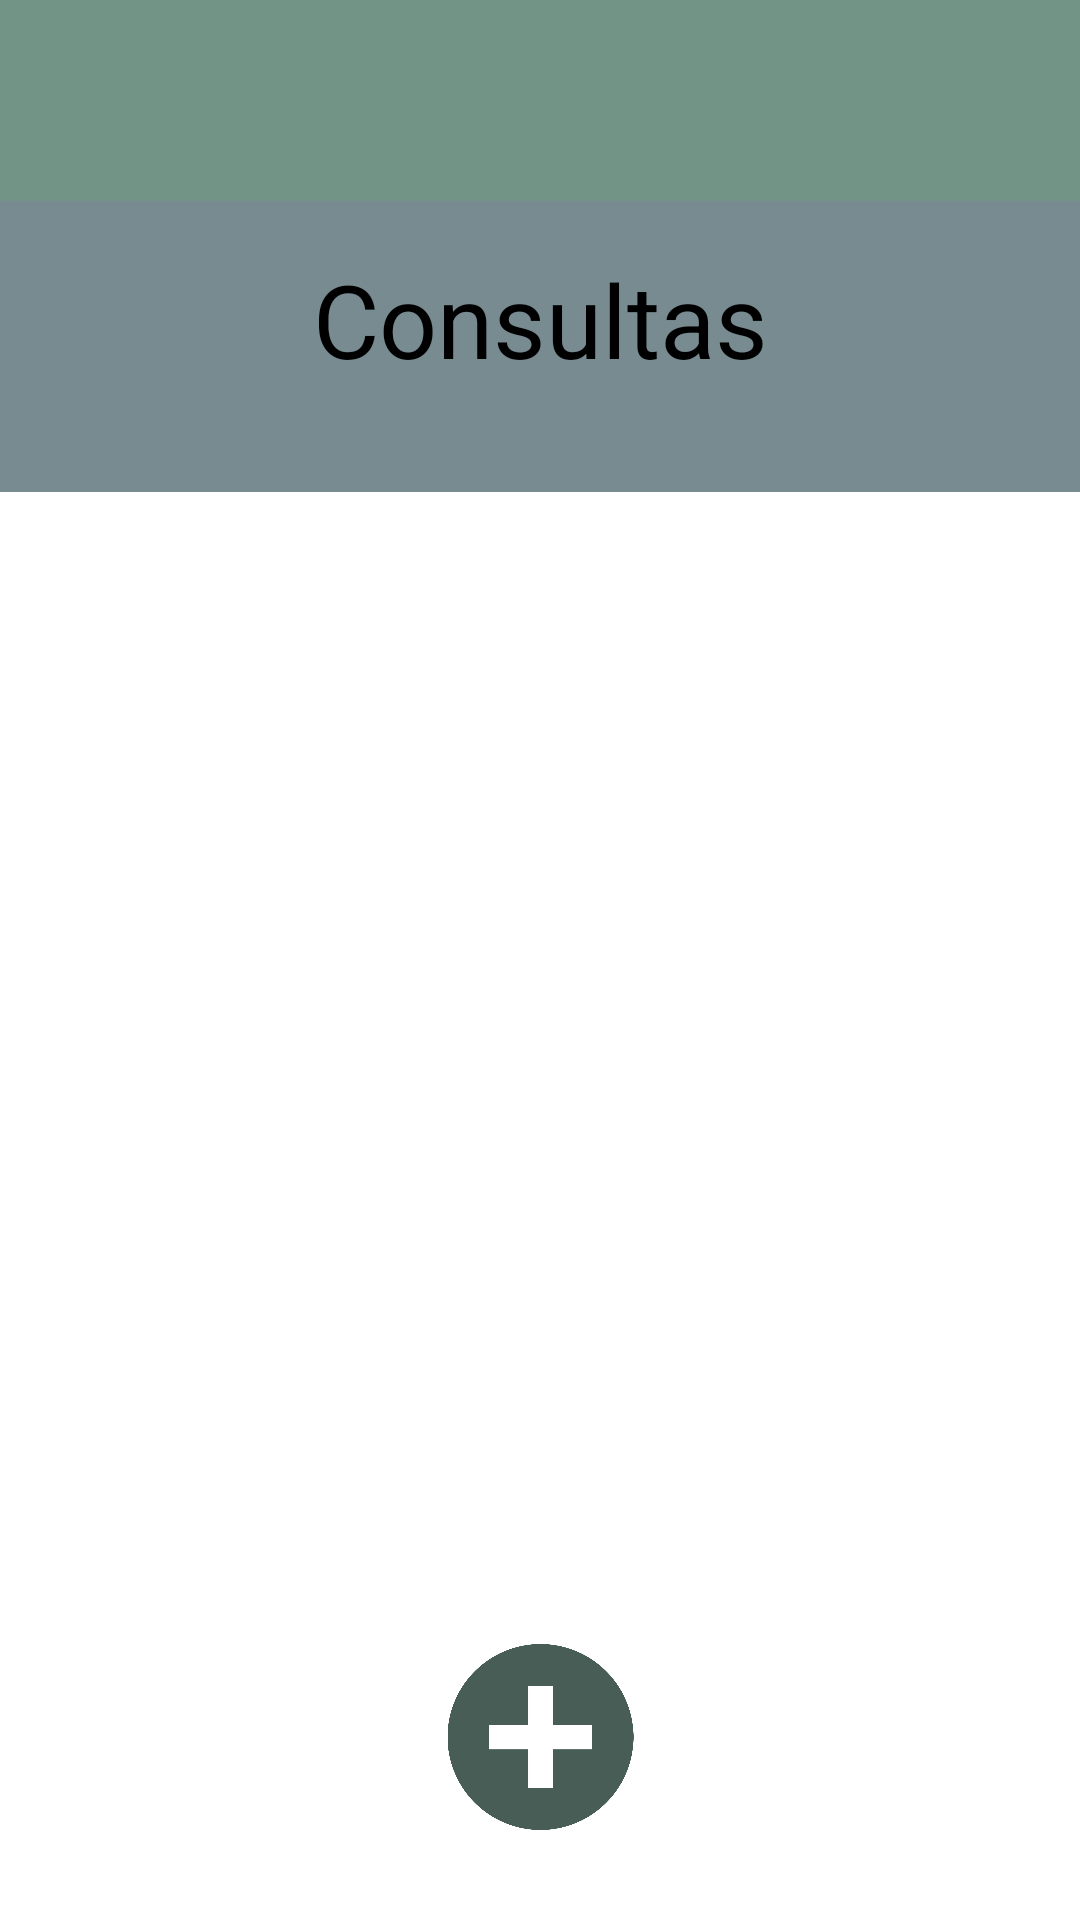

Icons on this 1080w x 1920h Android screen, each with the point to tap as [x,y]:
mais: [541,1737]
